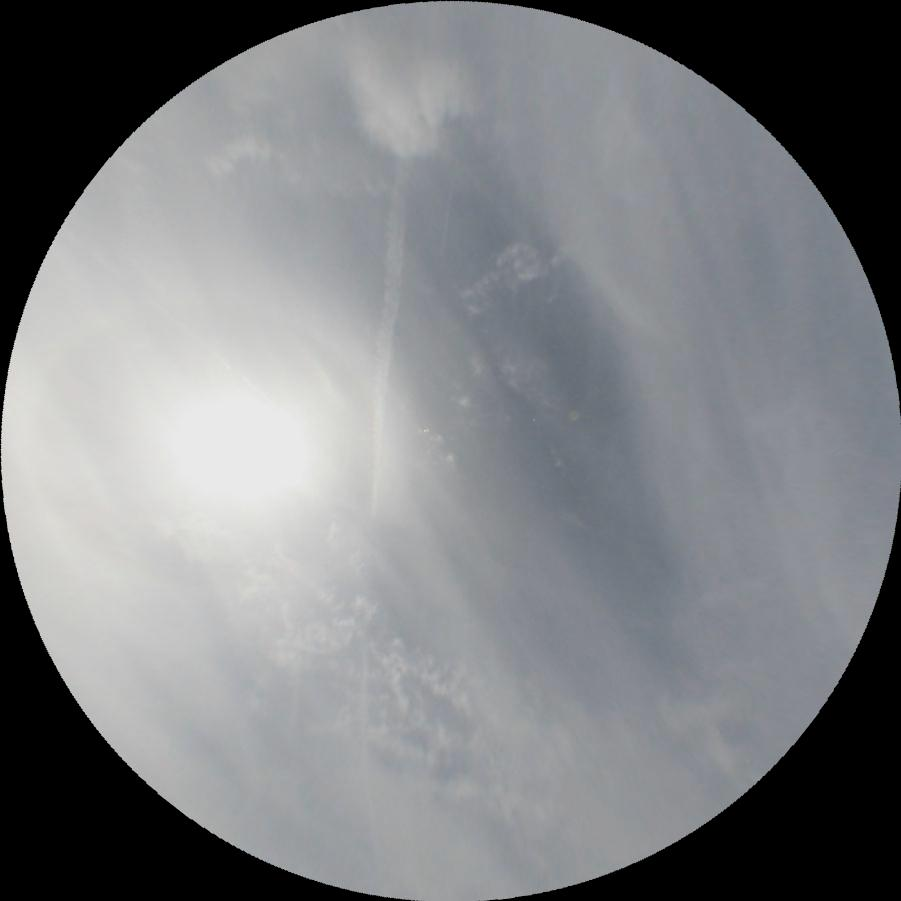contrail veryold: (345, 156, 415, 836)
contrail young: (436, 173, 454, 257)
parasite: (59, 223, 278, 406)
sun: (163, 375, 314, 514)
